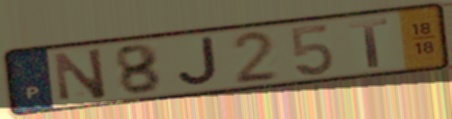2: (229, 29, 280, 86)
5: (288, 21, 336, 78)
8: (113, 42, 164, 96)
J: (175, 35, 222, 89)
N: (50, 45, 109, 103)
T: (347, 16, 392, 70)
